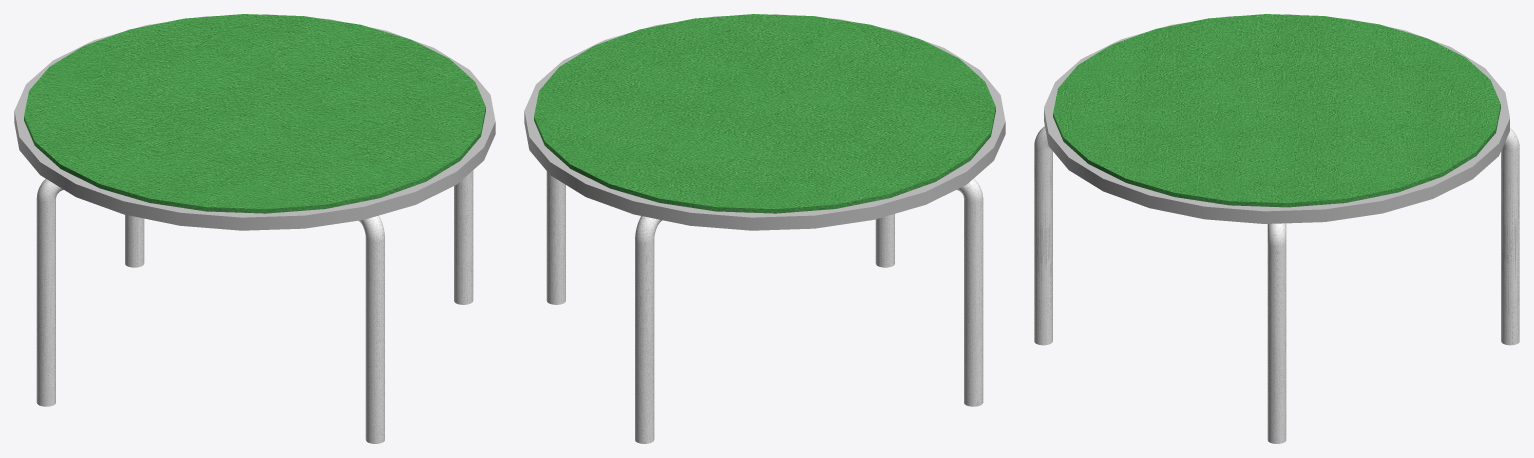
Rendered from poker_desk.fbx.
3 renders of one model, left to right at view 1: azimuth 30°, elevation 25°; view 2: azimuth 150°, elevation 25°; view 3: azimuth 270°, elevation 25°, orthographic. The views are drawn at different scales.
Visible parts, largest first — view 1: ID74, ID61, SketchUp, ID26, ID18; view 2: ID74, ID61, SketchUp, ID26, ID18; view 3: ID74, ID61, SketchUp, ID18.
Boxes of the visible parts, left/top/right/bottom form: ID74: left=24, top=14, right=485, bottom=213; ID61: left=14, top=14, right=495, bottom=230; SketchUp: left=125, top=214, right=384, bottom=443; ID26: left=36, top=179, right=63, bottom=406; ID18: left=454, top=170, right=473, bottom=304; ID74: left=534, top=14, right=995, bottom=213; ID61: left=524, top=14, right=1005, bottom=230; SketchUp: left=635, top=214, right=894, bottom=443; ID26: left=956, top=178, right=983, bottom=406; ID18: left=546, top=171, right=565, bottom=304; ID74: left=1053, top=14, right=1500, bottom=207; ID61: left=1044, top=14, right=1509, bottom=223; SketchUp: left=1034, top=126, right=1519, bottom=345; ID18: left=1267, top=223, right=1286, bottom=443.
Size of the model in its own units: 40.94 by 21.65 by 40.94.
